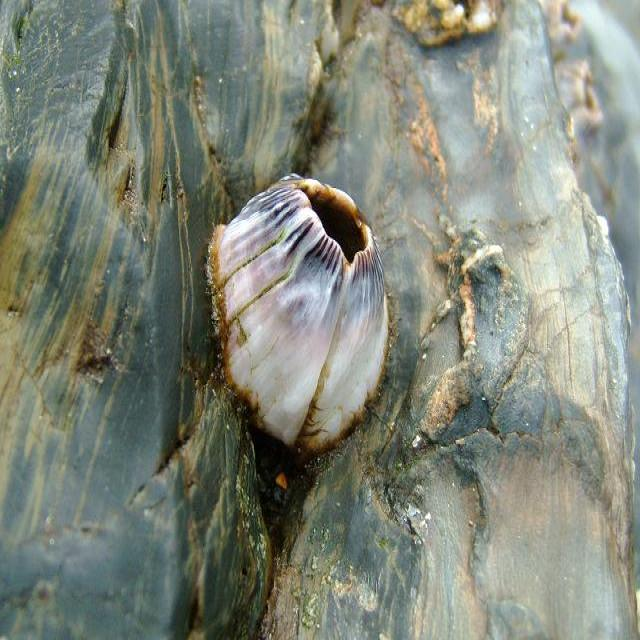barnacles: (204, 139, 396, 474)
